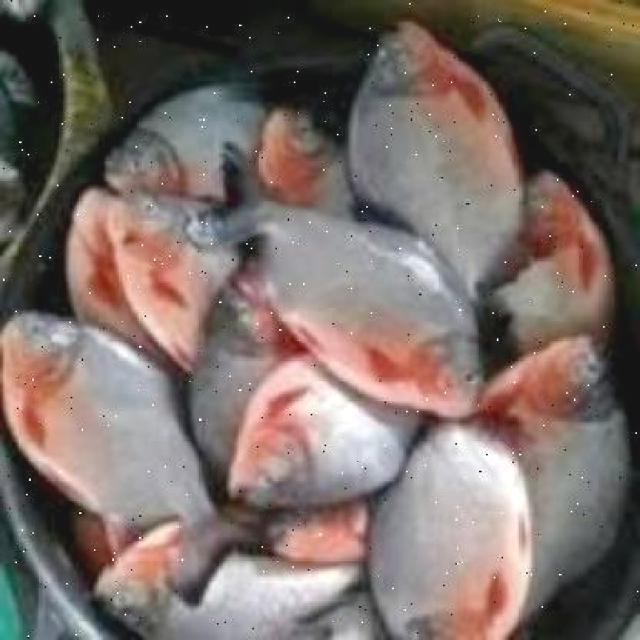ikan-pacu: (248, 192, 490, 408), (346, 22, 534, 295), (0, 307, 208, 521), (489, 332, 625, 616), (368, 409, 528, 637), (226, 354, 414, 520), (100, 82, 263, 195)
